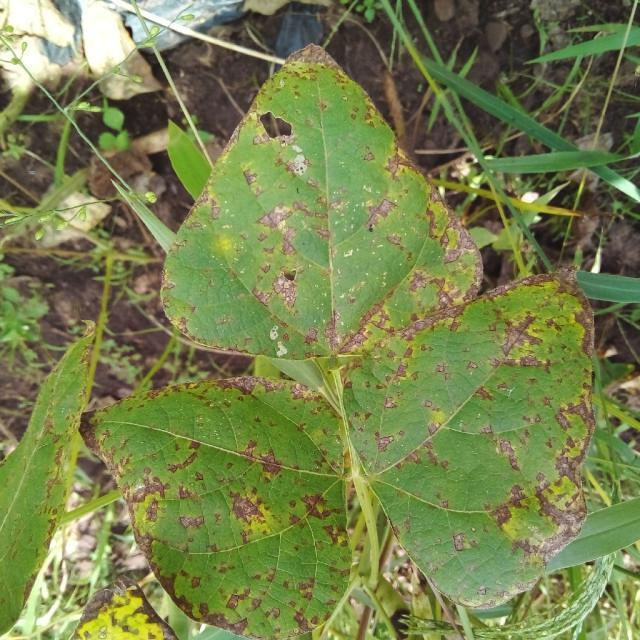hawar: (194, 79, 468, 379), (347, 268, 609, 578), (79, 348, 375, 619)
